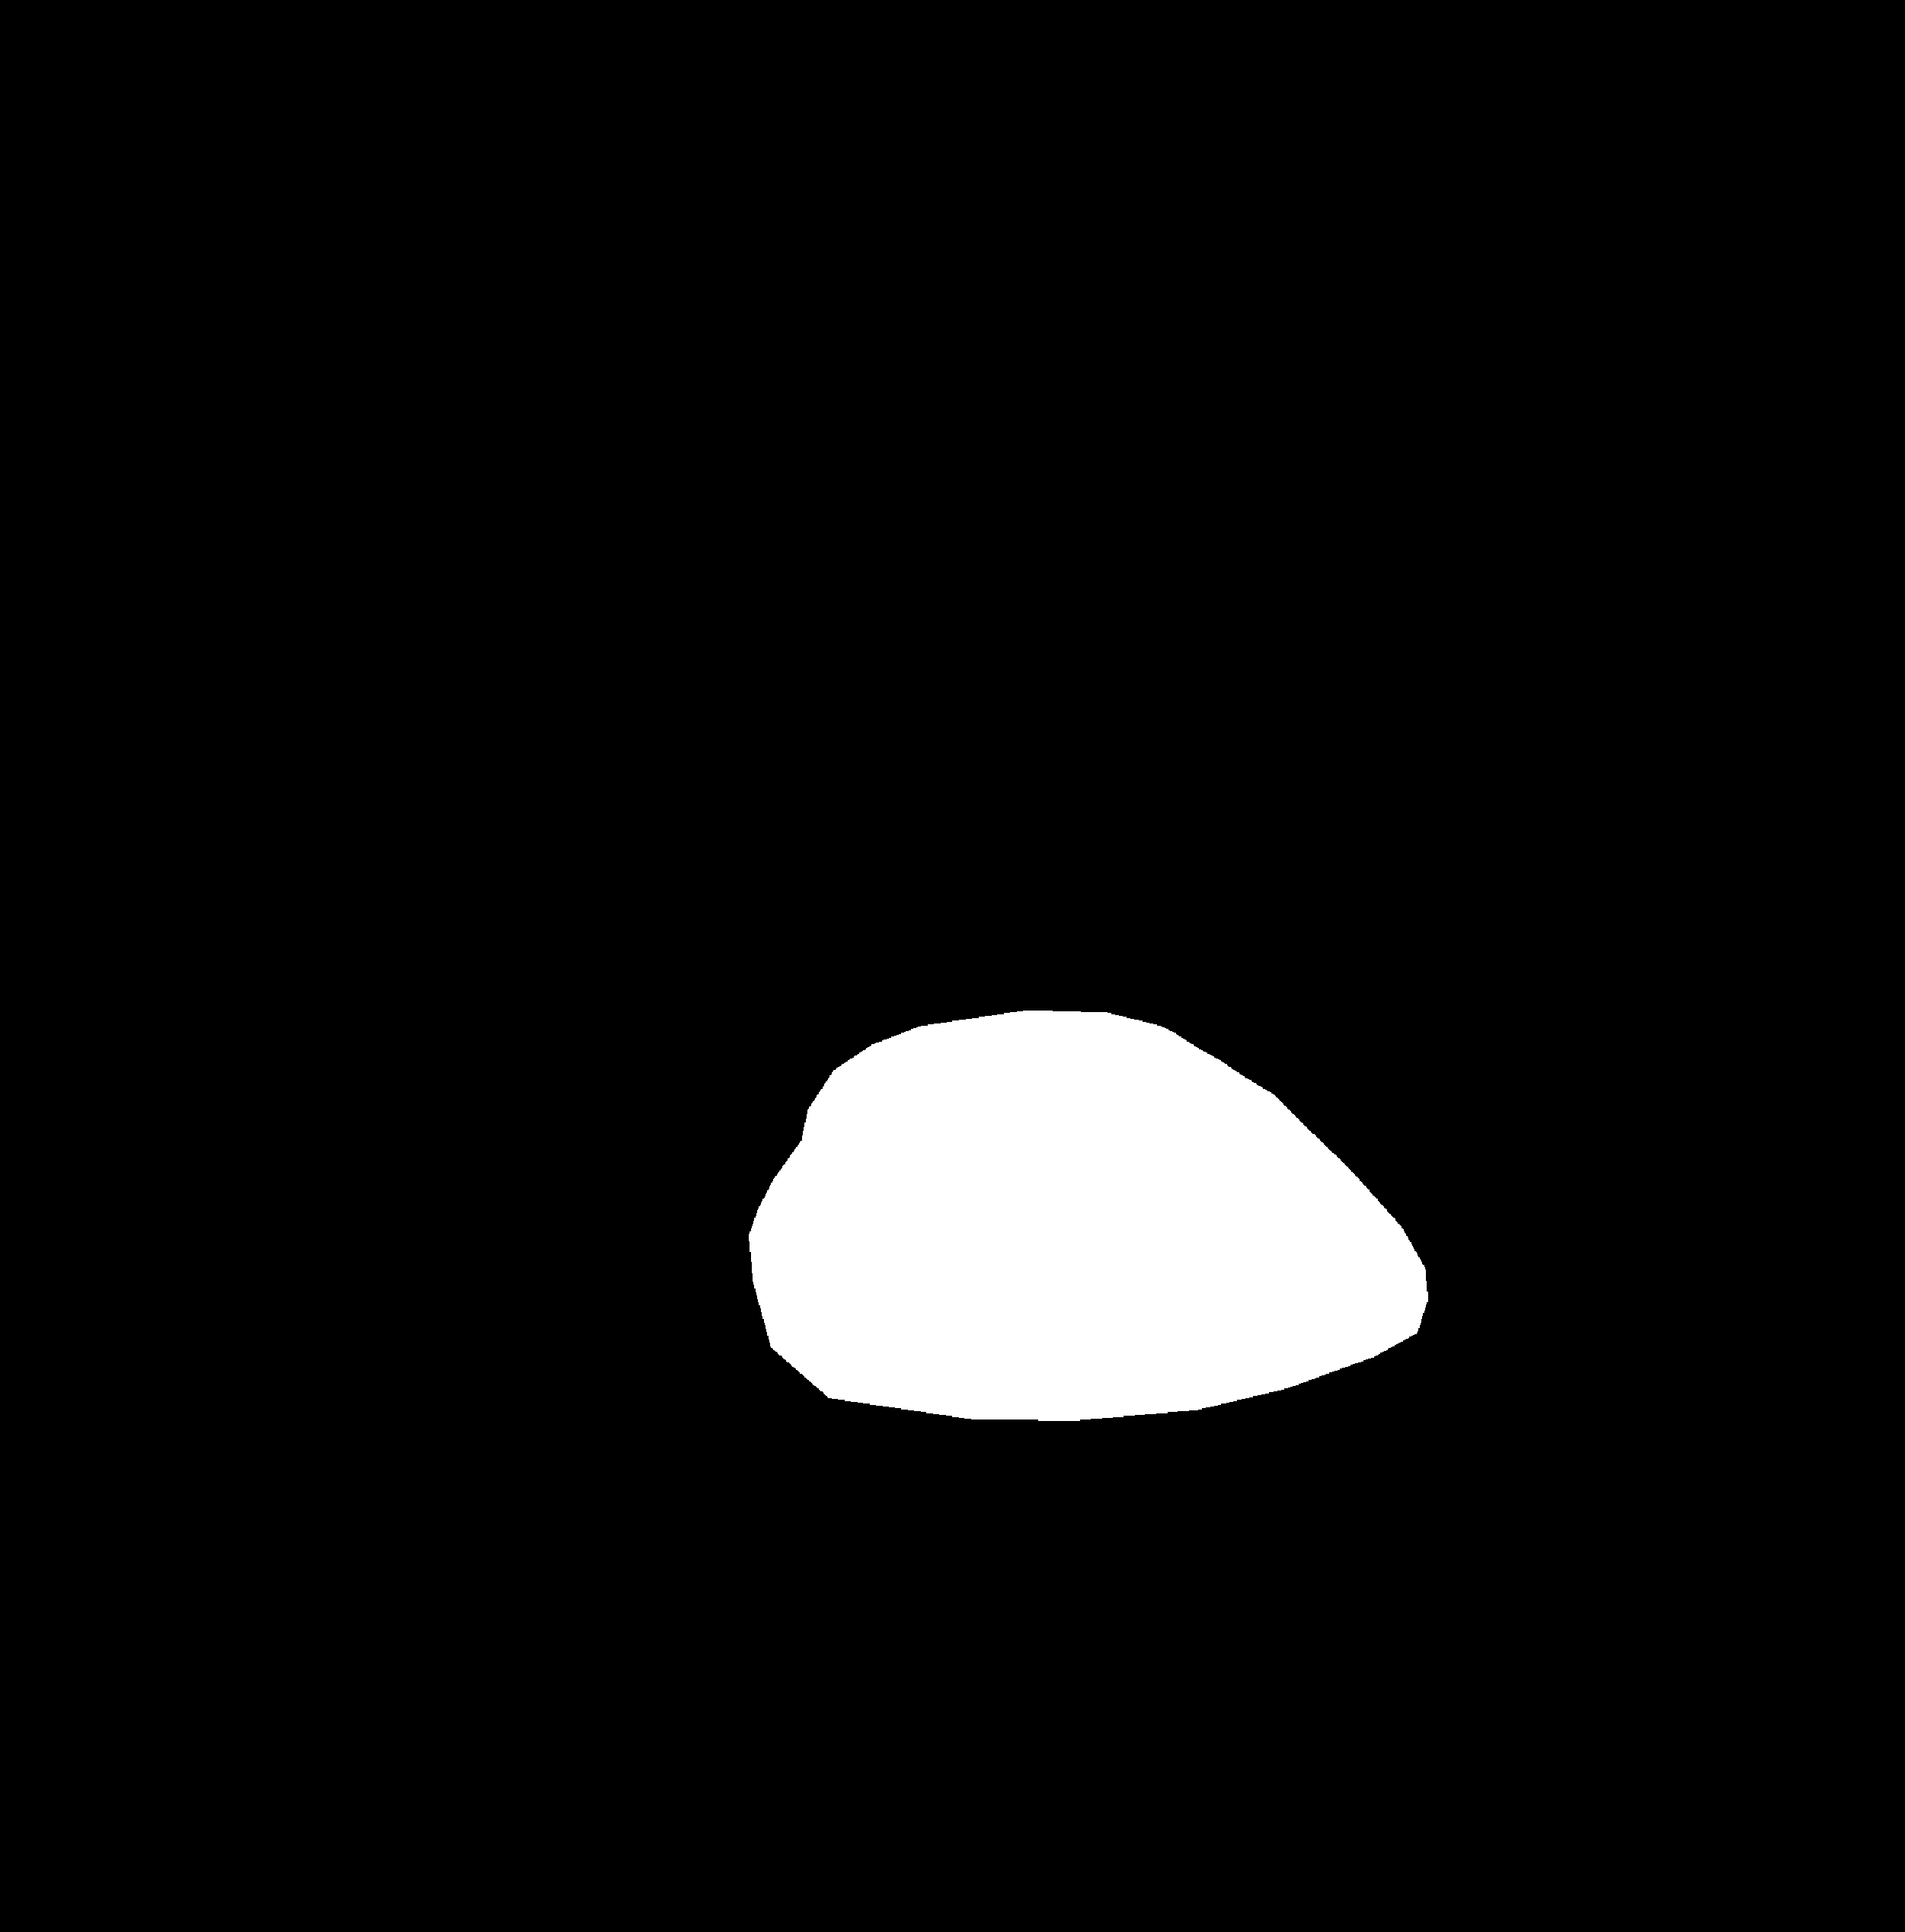heart: (745, 1085, 1455, 1500)
left_lung: (174, 340, 844, 1426)
right_lung: (1010, 326, 1701, 1365)
